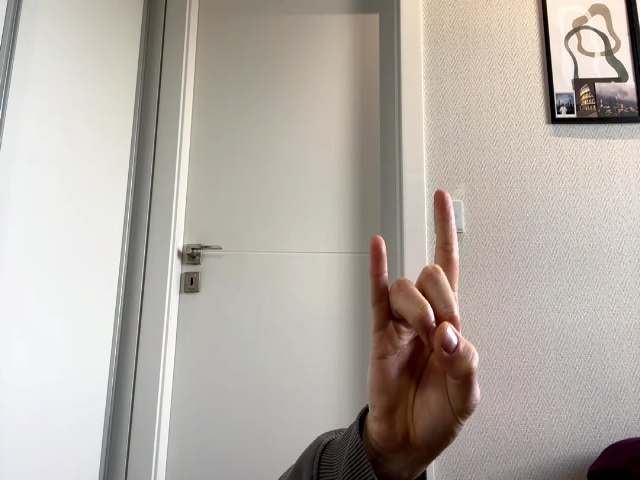Y: (367, 189, 482, 430)
